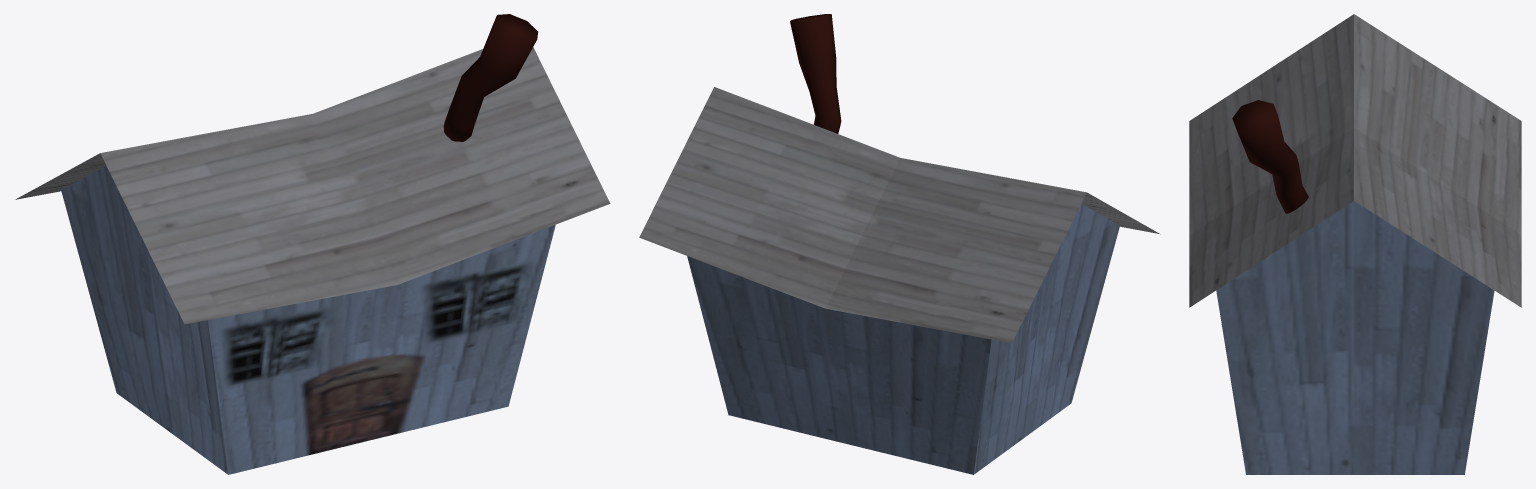
The model's file is house.fbx.
3 views of the same model, side by side, from view 1: azimuth 30°, elevation 25°; view 2: azimuth 150°, elevation 25°; view 3: azimuth 270°, elevation 25° (orthographic). The views are drawn at different scales.
Parts seen in each view (by area): view 1: Roof, House, Chimeny; view 2: Roof, House, Chimeny; view 3: House, Roof, Chimeny.
Part boxes in pixels (<box>): Roof: <box>15,47,610,324</box>; House: <box>61,165,555,474</box>; Chimeny: <box>443,14,538,141</box>; Roof: <box>639,87,1160,343</box>; House: <box>687,204,1119,474</box>; Chimeny: <box>790,14,841,133</box>; House: <box>1216,201,1494,474</box>; Roof: <box>1189,14,1521,307</box>; Chimeny: <box>1232,100,1308,213</box>.
Size of the model in its own units: 694 by 593 by 480.
